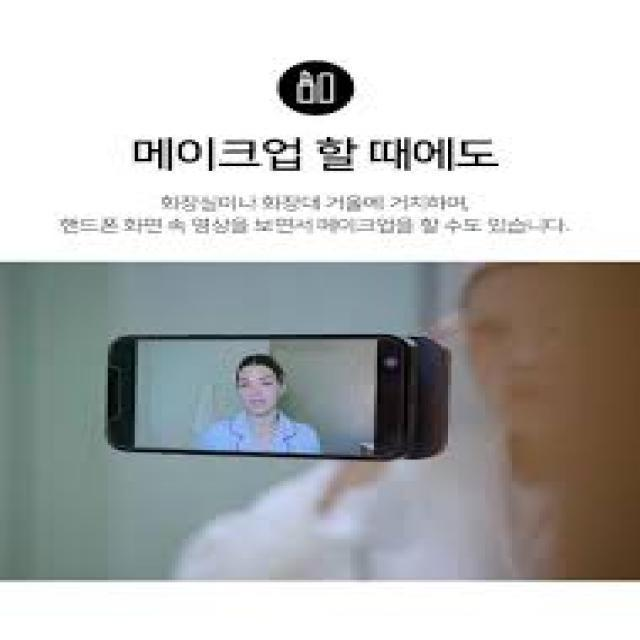Phone: (102, 333, 409, 465)
